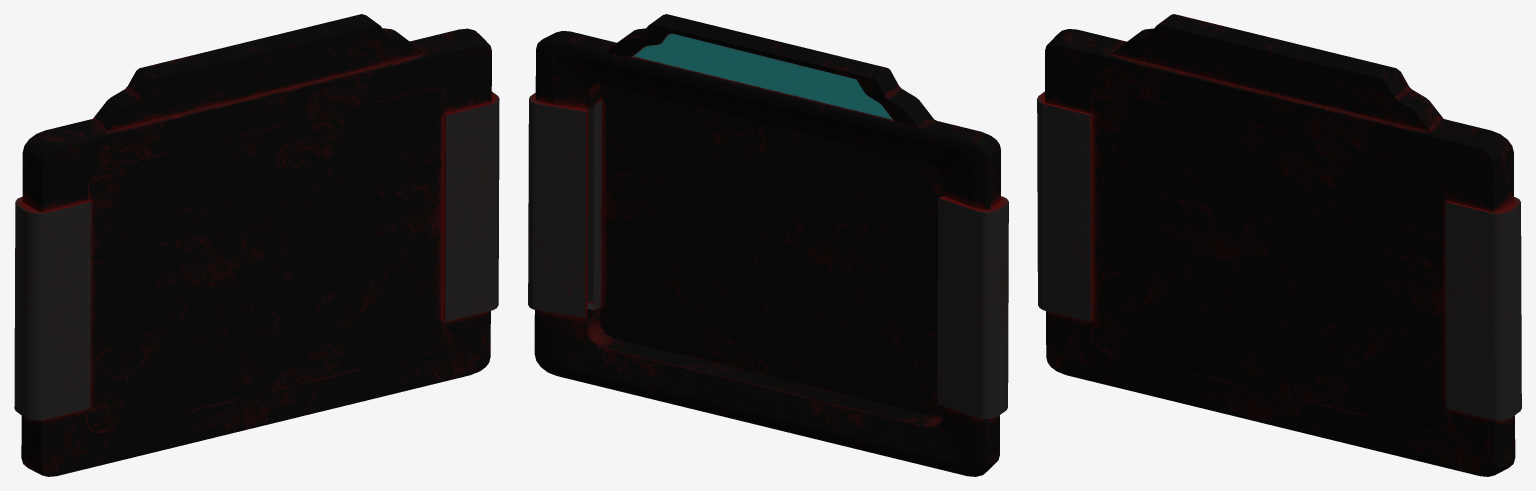
File: PDACase_Large.fbx
The picture shows the model from 3 angles, left to right: view 1: azimuth 30°, elevation 25°; view 2: azimuth 150°, elevation 25°; view 3: azimuth 330°, elevation 25°; orthographic projection.
Parts seen in each view (by area): view 1: Handle3; view 2: Handle3; view 3: Handle3.
Boxes of the visible parts, x1=… form: Handle3: x1=14, y1=14, x2=499, y2=476; Handle3: x1=528, y1=14, x2=1008, y2=476; Handle3: x1=1037, y1=14, x2=1521, y2=476.
Bounding box in the file's own units: 2.42 × 1.85 × 0.2065.
Materials: 1 (1 with a texture image).
